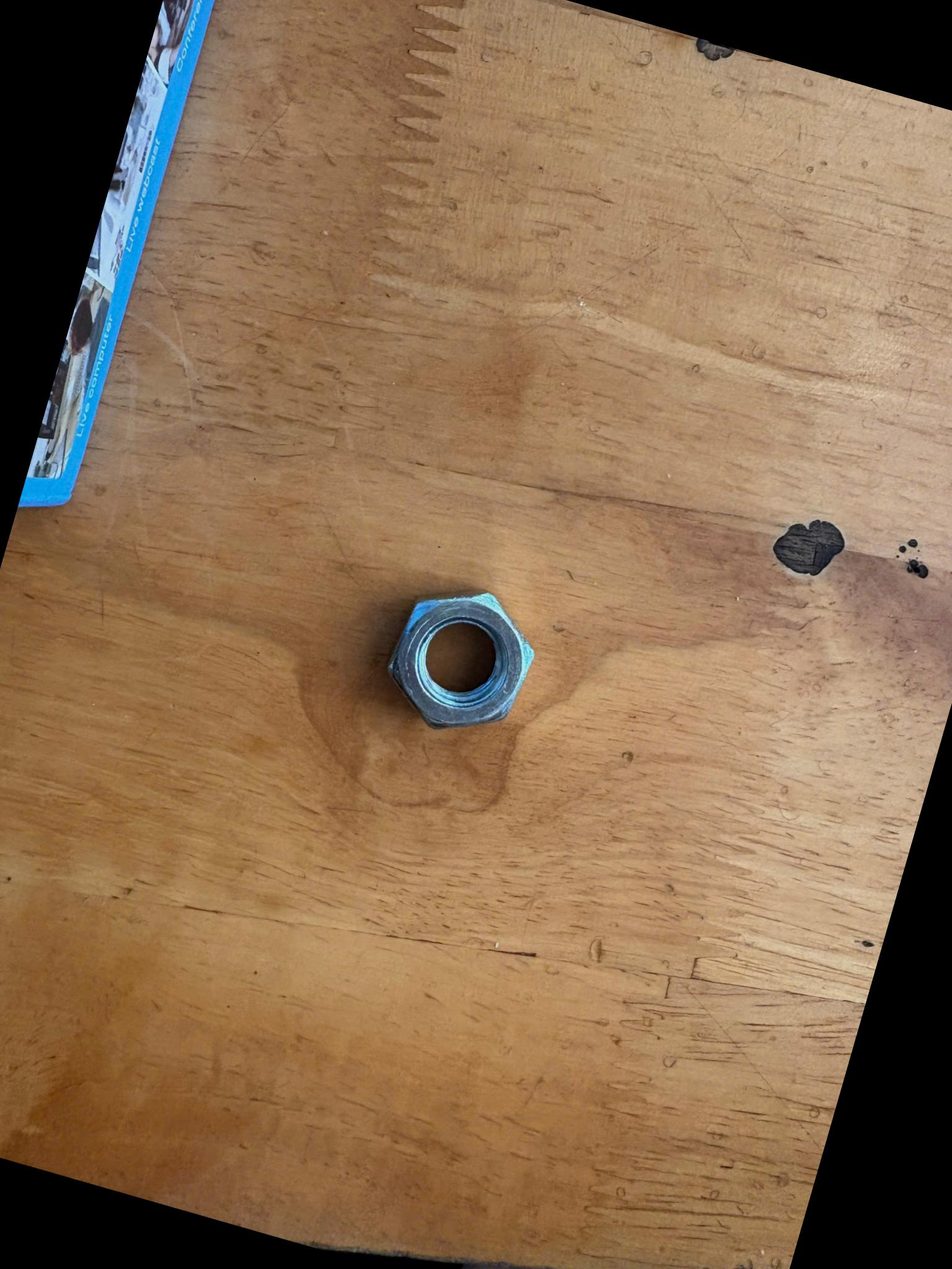nut: (344, 552, 568, 775)
